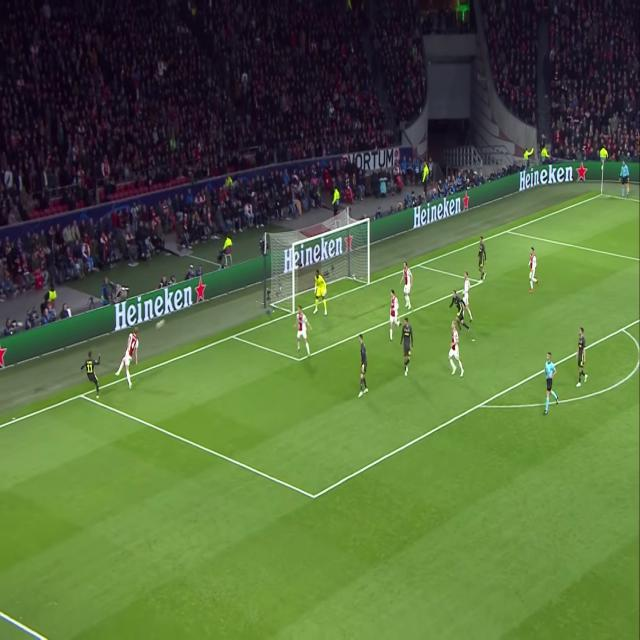Ball: (154, 311, 168, 333)
GoalKeeper: (313, 273, 327, 319)
TEAM 1: (575, 324, 590, 390), (399, 318, 414, 377), (358, 336, 371, 400), (83, 353, 102, 396), (451, 289, 469, 333), (476, 235, 487, 285)
TEAM 2: (114, 321, 142, 398), (388, 287, 404, 344), (448, 330, 464, 377), (296, 311, 311, 358), (401, 262, 414, 308), (462, 267, 472, 322), (528, 248, 540, 292)
